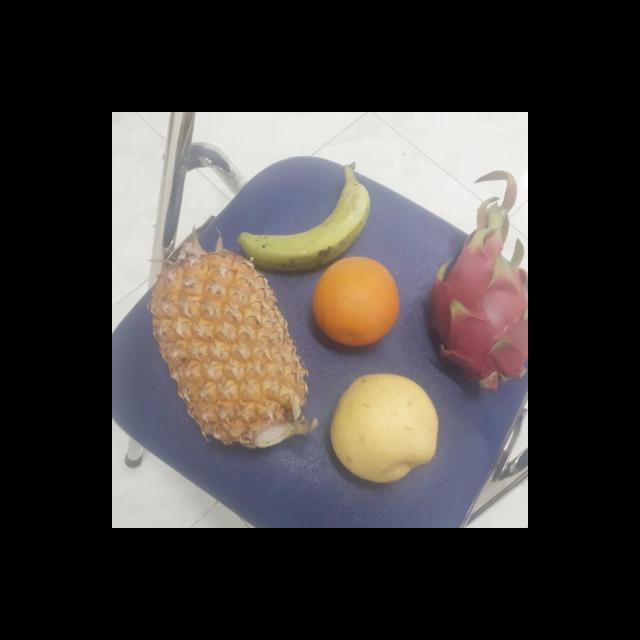banana: (238, 164, 368, 269)
guava: (328, 372, 440, 482)
orange: (306, 253, 406, 347)
pineapple: (146, 251, 315, 449)
pitaya: (420, 227, 528, 396)
